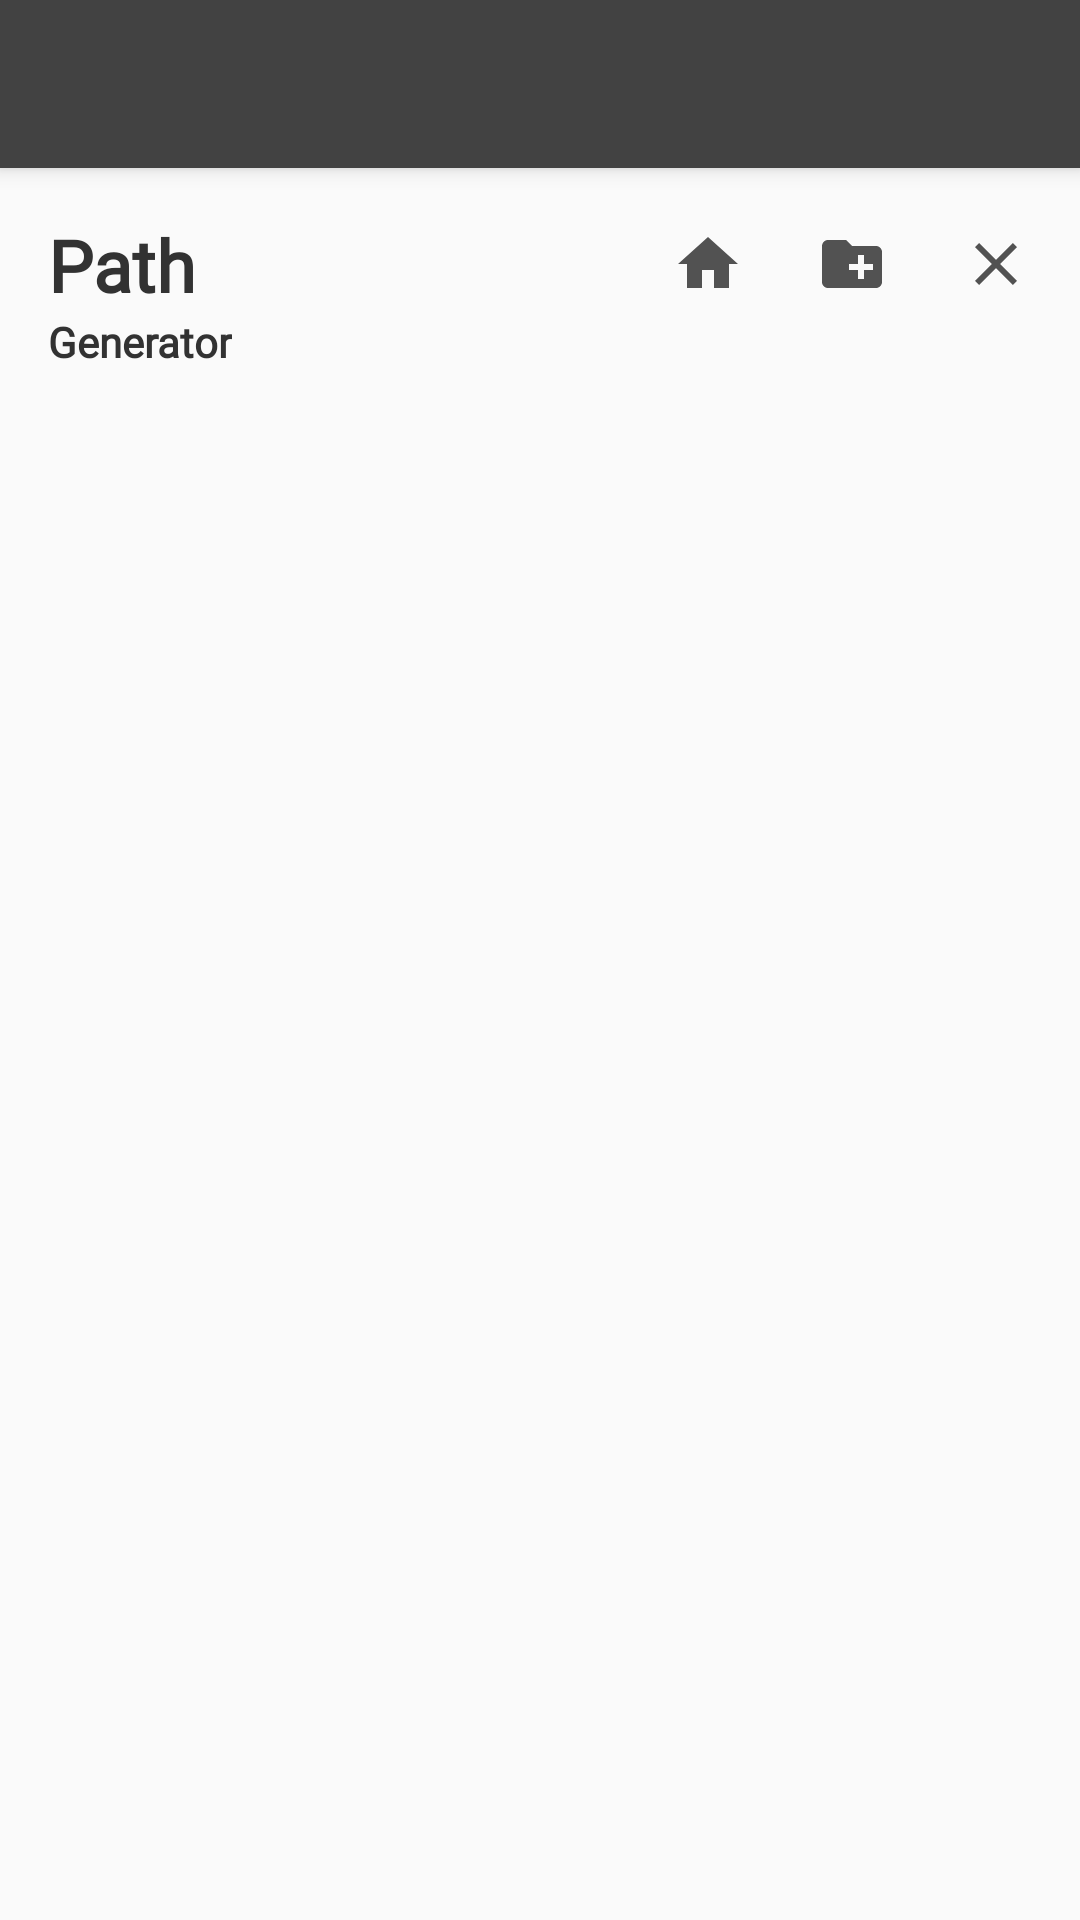

Point at icon controls on the screen. Image size 1080px×1920px, points as [x,y].
close: [996,264]
create folder: [852,264]
home: [708,262]
